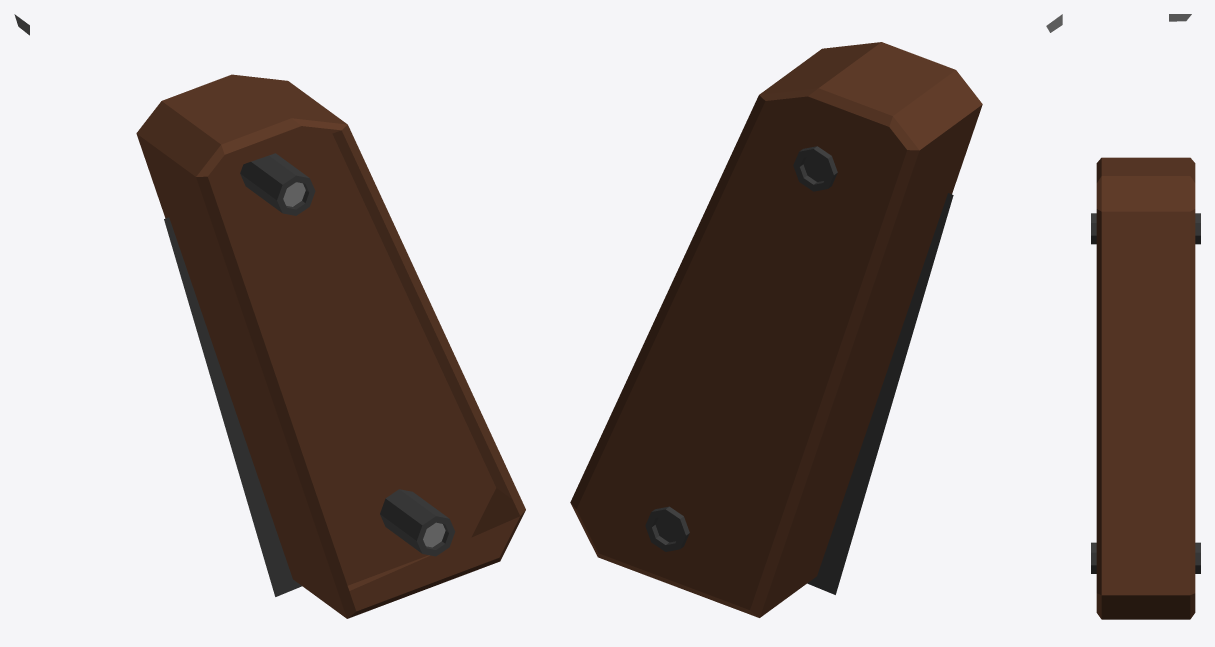
File: PistolMagazine2.obj
3 views of the same model, side by side, from view 1: azimuth 30°, elevation 25°; view 2: azimuth 150°, elevation 25°; view 3: azimuth 270°, elevation 25° (orthographic). The views are drawn at different scales.
Parts seen in each view (by area): view 1: M1911_Model_Cube.003; view 2: M1911_Model_Cube.003; view 3: M1911_Model_Cube.003.
Part boxes in pixels (box(x1,y1,x2,y2)): M1911_Model_Cube.003: box(14, 14, 525, 618); M1911_Model_Cube.003: box(570, 14, 1062, 617); M1911_Model_Cube.003: box(1091, 14, 1200, 619).
Size of the model in its own units: 0.1052 by 0.1388 by 0.029.
